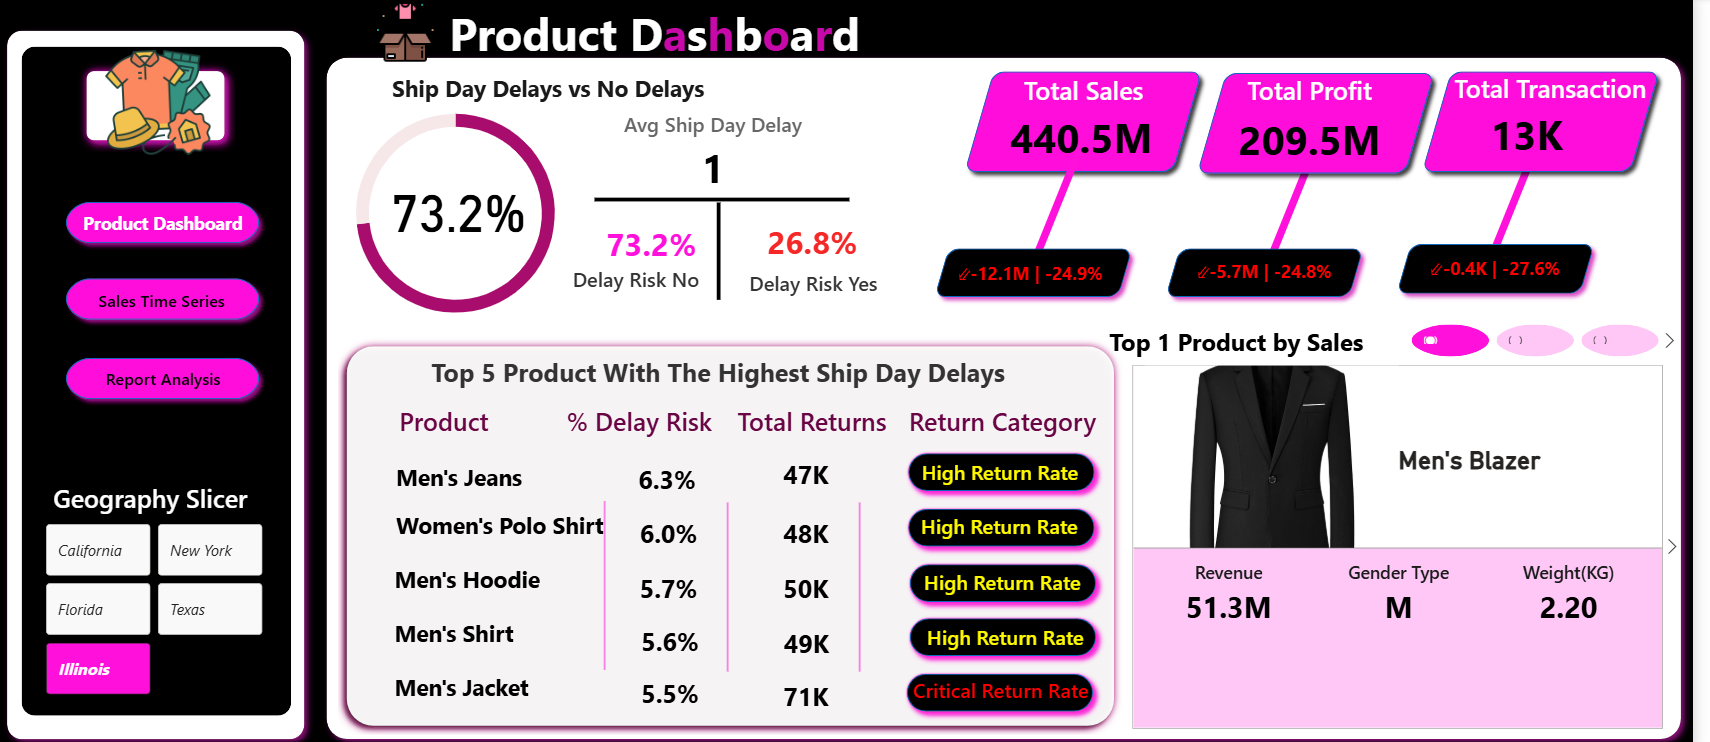

What the dashboard file says about the page in this screenshot:
{"tool":"powerbi","page":{"name":"Product Dashboard","canvas":[1800,800],"ordinal":1},"visuals":[{"type":"shape","box":[338.9,52.6,1460.5,746.6],"z":0},{"type":"shape","box":[0,23.6,338.9,775.6],"z":1000},{"type":"shape","box":[27.5,51.8,286.3,710],"z":2000},{"type":"shape","box":[362.3,360.7,832.8,421.3],"z":3000},{"type":"shape","box":[1332.6,158.5,85.7,124.5],"z":4000},{"type":"shape","box":[1232.4,257.1,228,69.5],"z":5000},{"type":"shape","box":[1264.7,71.2,270.1,124.5],"z":6000},{"type":"shape","box":[1562.3,168.2,84.1,124.5],"z":7000},{"type":"shape","box":[1476.9,253.7,228.3,70.7],"z":8000},{"type":"shape","box":[1504.1,69.5,270.1,124.5],"z":9000},{"type":"shape","box":[1018.9,69.5,270.1,124.5],"z":10000},{"type":"shape","box":[1085.2,153.6,84.1,124.5],"z":11000},{"type":"shape","box":[986.5,257.1,228,69.5],"z":12000},{"type":"shape","box":[366,74.3,596.2,277.2],"z":13000},{"type":"advancedSlicerVisual","fields":{"Values":["geography.State"]},"box":[47.1,554.5,241,192.1],"z":14000},{"type":"card","fields":{"Values":["Measure.Total Sales"]},"box":[1069.1,99.7,163.1,96],"z":15000},{"type":"card","fields":{"Values":["Measure.Profit"]},"box":[1283,101.5,221.1,96],"z":16000},{"type":"card","fields":{"Values":["Measure.Orders"]},"box":[1542.1,97.9,163.1,96],"z":17000},{"type":"card","fields":{"Values":["Measure.MOM Sales"]},"box":[998.5,262.8,197.5,63.4],"z":18000},{"type":"card","fields":{"Values":["Measure.MOM Profit"]},"box":[1246.7,260.9,197.5,63.4],"z":19000},{"type":"card","fields":{"Values":["Measure.MOM orders"]},"box":[1491.4,257.3,197.5,63.4],"z":20000},{"type":"textbox","box":[1085.4,74.3,212,94.2],"z":21000},{"type":"textbox","box":[1322.8,74.3,212,94.2],"z":22000},{"type":"textbox","box":[1542.6,73.8,231.1,95.1],"z":23000},{"type":"cardVisual","fields":{"Data":["Measure.Top 1 delay risk"]},"box":[407.7,476.6,222.9,58],"z":24000},{"type":"card","fields":{"Values":["Measure.Top 1 Percent delay risk"]},"box":[598,483.8,226.5,56.2],"z":25000},{"type":"card","fields":{"Values":["Measure.Top 2 Percent delay risk"]},"box":[599.8,540,226.5,59.8],"z":26000},{"type":"card","fields":{"Values":["Measure.Top 3 Percent delay risk"]},"box":[599.8,599.8,226.5,56.2],"z":27000},{"type":"card","fields":{"Values":["Measure.Top 4 Percent delay risk"]},"box":[601.6,656,226.5,58],"z":28000},{"type":"card","fields":{"Values":["Measure.Top 5 Percent delay risk"]},"box":[601.6,712.2,226.5,56.2],"z":29000},{"type":"textbox","box":[369.7,425.8,212,65.2],"z":30000},{"type":"shape","box":[956.8,708.5,217.5,59.8],"z":31000},{"type":"cardVisual","fields":{"Data":["Measure.Top 2 delay risk"]},"box":[408.2,526.2,272.1,57.4],"z":32000},{"type":"cardVisual","fields":{"Data":["Measure.Top 3 delay risk"]},"box":[405.9,583.5,260.9,58],"z":33000},{"type":"cardVisual","fields":{"Data":["Measure.Top 4 delay risk"]},"box":[405.9,641.5,260.9,58],"z":34000},{"type":"cardVisual","fields":{"Data":["Measure.Top 5 delay risk"]},"box":[405.9,699.5,222.9,58],"z":35000},{"type":"shape","box":[960.4,650.1,217.5,59.8],"z":36000},{"type":"shape","box":[959.5,591.6,217.5,59.8],"z":37000},{"type":"shape","box":[958.6,533.2,217.5,59.8],"z":38000},{"type":"shape","box":[957.7,474.8,217.5,59.8],"z":39000},{"type":"card","fields":{"Values":["Measure.Top 1 delay risk return"]},"box":[950.8,477,229.5,55.7],"z":40000},{"type":"card","fields":{"Values":["Measure.Top 2 delay risk Returns"]},"box":[949.5,534.6,228.3,56.2],"z":41000},{"type":"card","fields":{"Values":["Measure.Top 3 delay risk returns"]},"box":[953.2,594.4,228.3,56.2],"z":42000},{"type":"card","fields":{"Values":["Measure.Top 4 delay risk returns"]},"box":[956.8,652.4,228.3,56.2],"z":43000},{"type":"card","fields":{"Values":["Measure.Top 5 delay risk returns"]},"box":[951.3,708.5,228.3,56.2],"z":44000},{"type":"card","fields":{"Values":["Measure.Top 1 delay risk returns value"]},"box":[744.8,478.4,228.3,56.2],"z":45000},{"type":"card","fields":{"Values":["Measure.Top 2 delay risk Returns value"]},"box":[744.8,541.8,228.3,56.2],"z":46000},{"type":"card","fields":{"Values":["Measure.Top 3 delay risk returns value"]},"box":[744.8,599.8,228.3,56.2],"z":47000},{"type":"card","fields":{"Values":["Measure.Top 4 delay risk returns value"]},"box":[744.3,659,229.5,55.7],"z":48000},{"type":"card","fields":{"Values":["Measure.Top 5 delay risk returns Value"]},"box":[744.8,714,228.3,56.2],"z":49000},{"type":"textbox","box":[578.1,425.8,210.2,67],"z":50000},{"type":"textbox","box":[761.1,425.8,210.2,67],"z":51000},{"type":"textbox","box":[962.2,425.8,210.2,67],"z":52000},{"type":"donutChart","fields":{"Y":["Measure.percent no delays","Measure.percent yes delays"]},"box":[270,92.4,433.1,273.6],"z":53000},{"type":"shape","box":[724.8,217.5,85.2,103.3],"z":54000},{"type":"shape","box":[634.4,186.9,270.5,57.4],"z":55000},{"type":"textbox","box":[592.6,279,174,67],"z":56000},{"type":"textbox","box":[762.3,283.6,209.8,67.2],"z":57000},{"type":"card","fields":{"Values":["Measure.percent no delays"]},"box":[581.7,233.8,228.3,56.2],"z":58000},{"type":"card","fields":{"Values":["Measure.percent yes delays"]},"box":[750.8,231.1,229.5,57.4],"z":59000},{"type":"card","fields":{"Values":["Measure.Avg shipday delay"]},"box":[646.9,152.2,228.3,56.2],"z":60000},{"type":"textbox","box":[623.4,114.2,273.6,67],"z":61000},{"type":"textbox","box":[690.4,154,77.9,67],"z":62000},{"type":"advancedSlicerVisual","fields":{"Values":["Top 10 product.Top 10 product"]},"box":[1477,342.6,314.8,44.3],"z":63000},{"type":"cardVisual","fields":{"Data":["Measure.Top 10 product name","Measure.placement"]},"box":[1185.2,385.2,603.3,396.7],"z":64000},{"type":"card","fields":{"Values":["Measure.title top 10var _tops"]},"box":[1172.1,331.1,288.5,72.1],"z":65000},{"type":"shape","box":[65.2,208.4,222.9,61.6],"z":66000},{"type":"shape","box":[65.2,289.9,222.9,61.6],"z":67000},{"type":"shape","box":[65.2,373.3,222.9,61.6],"z":68000},{"type":"shape","box":[84.1,66.3,169.8,97],"z":69000},{"type":"actionButton","box":[70.7,219.3,213.8,39.9],"z":70000},{"type":"actionButton","box":[68.9,301.6,214.8,39.3],"z":71000},{"type":"actionButton","box":[70.5,385.2,214.8,39.3],"z":72000},{"type":"textbox","box":[475.4,0,726.2,91.8],"z":73000},{"type":"textbox","box":[382.4,373.3,768.3,67],"z":74000},{"type":"card","fields":{"Values":["Measure.percent no delays"]},"box":[375.1,164.9,228.3,114.2],"z":75000},{"type":"textbox","box":[27.5,507.8,273.3,66.3],"z":76000},{"type":"textbox","box":[375.1,74.3,420.4,65.2],"z":77000},{"type":"shape","box":[603.4,534.6,85.2,179.4],"z":78000},{"type":"shape","box":[733.9,536.4,85.2,179.4],"z":79000},{"type":"shape","box":[873.4,536.4,85.2,179.4],"z":80000},{"type":"image","box":[362.3,0,142.6,73.8],"z":81000},{"type":"image","box":[96.7,45.9,149.2,131.1],"z":82000}]}

Visuals, with their boxes in screenshot pixels (x1, y1, x2, y2), scaled from the page's 1800x800 canvas onto the 1710x742 screenshot:
shape: [322,49,1709,741]
shape: [0,22,322,741]
shape: [26,48,298,707]
shape: [344,335,1135,725]
shape: [1266,147,1347,262]
shape: [1171,238,1387,303]
shape: [1201,66,1458,182]
shape: [1484,156,1564,271]
shape: [1403,235,1620,301]
shape: [1429,64,1685,180]
shape: [968,64,1225,180]
shape: [1031,142,1111,258]
shape: [937,238,1154,303]
shape: [348,69,914,326]
advancedSlicerVisual - geography.State: [45,514,274,692]
card - Measure.Total Sales: [1016,92,1171,182]
card - Measure.Profit: [1219,94,1429,183]
card - Measure.Orders: [1465,91,1620,180]
card - Measure.MOM Sales: [949,244,1136,303]
card - Measure.MOM Profit: [1184,242,1372,301]
card - Measure.MOM orders: [1417,239,1604,297]
textbox: [1031,69,1233,156]
textbox: [1257,69,1458,156]
textbox: [1465,68,1685,157]
cardVisual - Measure.Top 1 delay risk: [387,442,599,496]
card - Measure.Top 1 Percent delay risk: [568,449,783,501]
card - Measure.Top 2 Percent delay risk: [570,501,785,556]
card - Measure.Top 3 Percent delay risk: [570,556,785,608]
card - Measure.Top 4 Percent delay risk: [572,608,787,662]
card - Measure.Top 5 Percent delay risk: [572,661,787,713]
textbox: [351,395,553,455]
shape: [909,657,1116,713]
cardVisual - Measure.Top 2 delay risk: [388,488,646,541]
cardVisual - Measure.Top 3 delay risk: [386,541,633,595]
cardVisual - Measure.Top 4 delay risk: [386,595,633,649]
cardVisual - Measure.Top 5 delay risk: [386,649,597,703]
shape: [912,603,1119,658]
shape: [912,549,1118,604]
shape: [911,495,1117,550]
shape: [910,440,1116,496]
card - Measure.Top 1 delay risk return: [903,442,1121,494]
card - Measure.Top 2 delay risk Returns: [902,496,1119,548]
card - Measure.Top 3 delay risk returns: [906,551,1122,603]
card - Measure.Top 4 delay risk returns: [909,605,1126,657]
card - Measure.Top 5 delay risk returns: [904,657,1121,709]
card - Measure.Top 1 delay risk returns value: [708,444,924,496]
card - Measure.Top 2 delay risk Returns value: [708,503,924,555]
card - Measure.Top 3 delay risk returns value: [708,556,924,608]
card - Measure.Top 4 delay risk returns value: [707,611,925,663]
card - Measure.Top 5 delay risk returns Value: [708,662,924,714]
textbox: [549,395,749,457]
textbox: [723,395,923,457]
textbox: [914,395,1114,457]
donutChart - Measure.percent no delays x Measure.percent yes delays: [256,86,668,339]
shape: [689,202,770,298]
shape: [603,173,860,227]
textbox: [563,259,728,321]
textbox: [724,263,923,325]
card - Measure.percent no delays: [553,217,770,269]
card - Measure.percent yes delays: [713,214,931,268]
card - Measure.Avg shipday delay: [615,141,831,193]
textbox: [592,106,852,168]
textbox: [656,143,730,205]
advancedSlicerVisual - Top 10 product.Top 10 product: [1403,318,1702,359]
cardVisual - Measure.Top 10 product name x Measure.placement: [1126,357,1699,725]
card - Measure.title top 10var _tops: [1113,307,1388,374]
shape: [62,193,274,250]
shape: [62,269,274,326]
shape: [62,346,274,403]
shape: [80,61,241,151]
actionButton: [67,203,270,240]
actionButton: [65,280,270,316]
actionButton: [67,357,271,394]
textbox: [452,0,1142,85]
textbox: [363,346,1093,408]
card - Measure.percent no delays: [356,153,573,259]
textbox: [26,471,286,532]
textbox: [356,69,756,129]
shape: [573,496,654,662]
shape: [697,498,778,664]
shape: [830,498,911,664]
image: [344,0,480,68]
image: [92,43,234,164]
